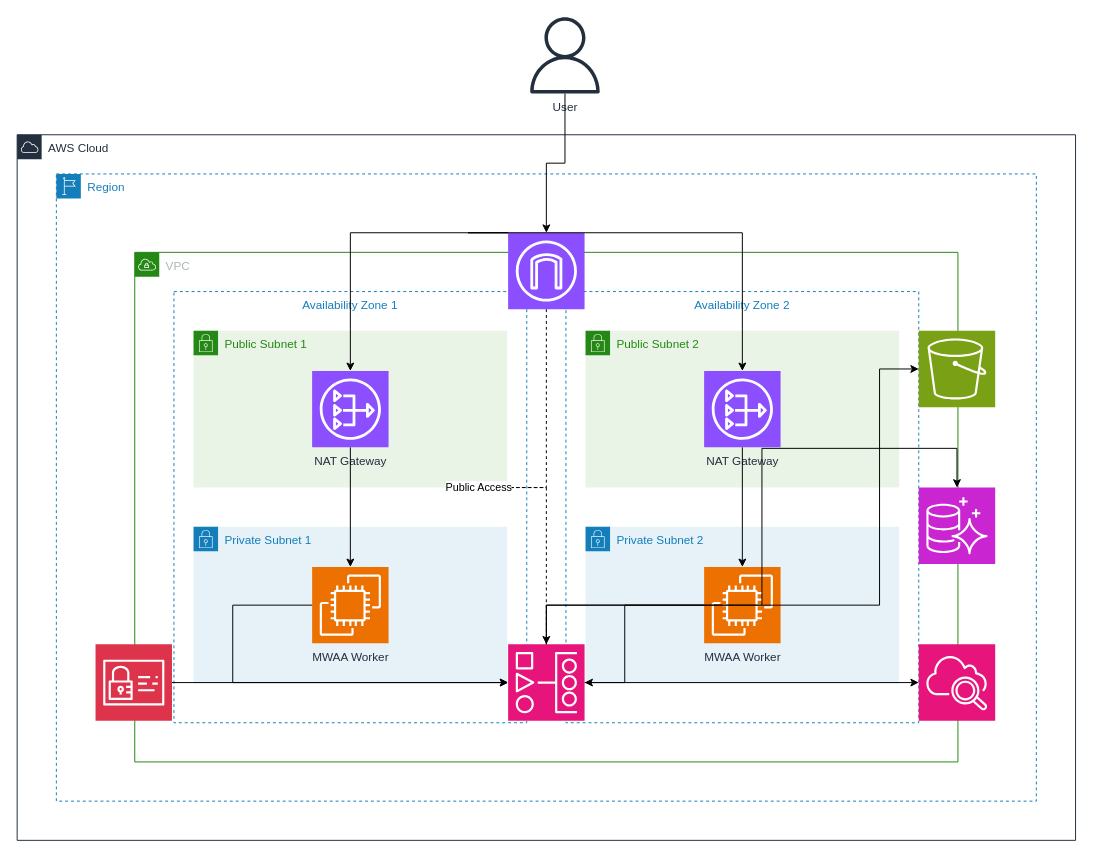
The diagram is 1093 pixels wide and 858 high, and some of its shapes have lost their labels. Here are the shapes that lost their labels. From the top down, the centre of each, then its label:
At (x=546, y=270): "Internet Gateway".
At (x=956, y=368): "S3 Bucket (DAGs, plugins.zip, requirements.txt)".
At (x=956, y=525): "Aurora PostgreSQL (Metadata DB)".
At (x=133, y=682): "IAM (Execution Role)".
At (x=546, y=682): "MWAA Environment (Public Mode)".
At (x=956, y=682): "CloudWatch".
